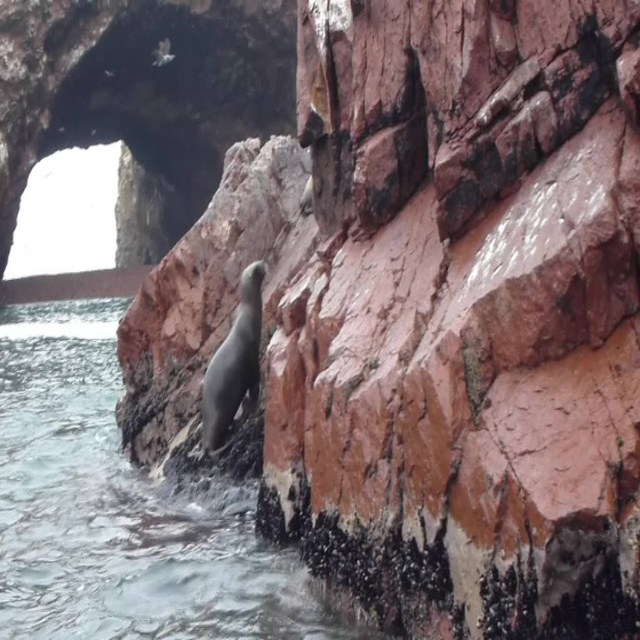Sea lion: (198, 258, 268, 464)
